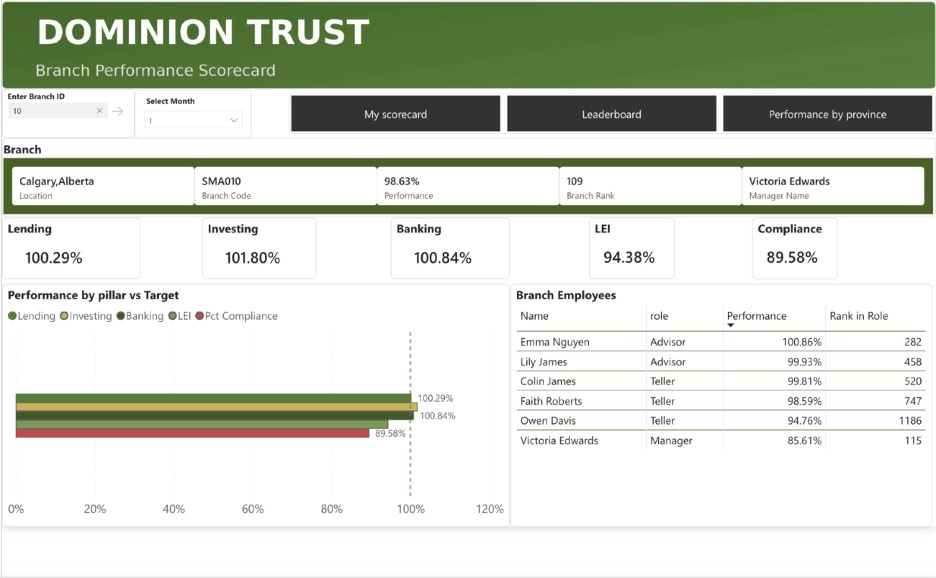

Layout of this report page (visuals, bound fields, positions):
{"tool":"tableau","page":{"name":"Branch View","canvas":[1000,1000],"units":"permille","ordinal":0},"visuals":[{"type":"image","param":"/Users/saran/Downloads/dominion_trust_branch_performance_scorecard_banner_1.png","box":[3.1,5.7,993.7,988.7]},{"type":"dashboard-object","box":[438.4,286.7,93.5,40.2]},{"type":"dashboard-object","box":[302.6,289.8,84,39.4]},{"type":"parameter","param":"[Parameters].[Parameter 3623807528333328]","box":[153.5,295.2,69,34]},{"type":"parameter","param":"[Parameters].[Parameter 3623807549329428]","box":[17.7,296.8,69,34]},{"type":"worksheet","title":"Sheet 3","mark":"Automatic","rows":["branch_name","lending_pct_to_target","lending_actual_total","compliance_pct_to_target","lei_pct_to_target","investing_pct_to_target","investing_actual_total","province","city","branch_tier","branch_id","manager_weighted_total_score"],"box":[16.4,411.1,811.2,221]},{"type":"worksheet","title":"Sheet 4","mark":"Automatic","rows":["role","first_name","last_name","weighted_total_score","rank_within_role"],"box":[15.1,660.7,467.2,236.5]}]}

Visuals, with their boxes on the dashboard's canvas, which has no fixed pixel size, in thousandths of its width and height (x1, y1, x2, y2). These are canvas units, not pixel positions in the 936x578 screenshot, which may show the page scaled, cropped or inside an application window:
image: x1=3 y1=6 x2=997 y2=994
dashboard-object: x1=438 y1=287 x2=532 y2=327
dashboard-object: x1=303 y1=290 x2=387 y2=329
parameter: x1=154 y1=295 x2=222 y2=329
parameter: x1=18 y1=297 x2=87 y2=331
"Sheet 3" worksheet: x1=16 y1=411 x2=828 y2=632
"Sheet 4" worksheet: x1=15 y1=661 x2=482 y2=897
